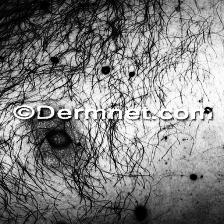Benign Marking or Mole: (38, 125, 80, 150), (132, 204, 151, 222), (33, 0, 53, 13), (95, 64, 114, 76), (46, 53, 62, 63), (188, 174, 202, 183), (203, 105, 215, 113)
